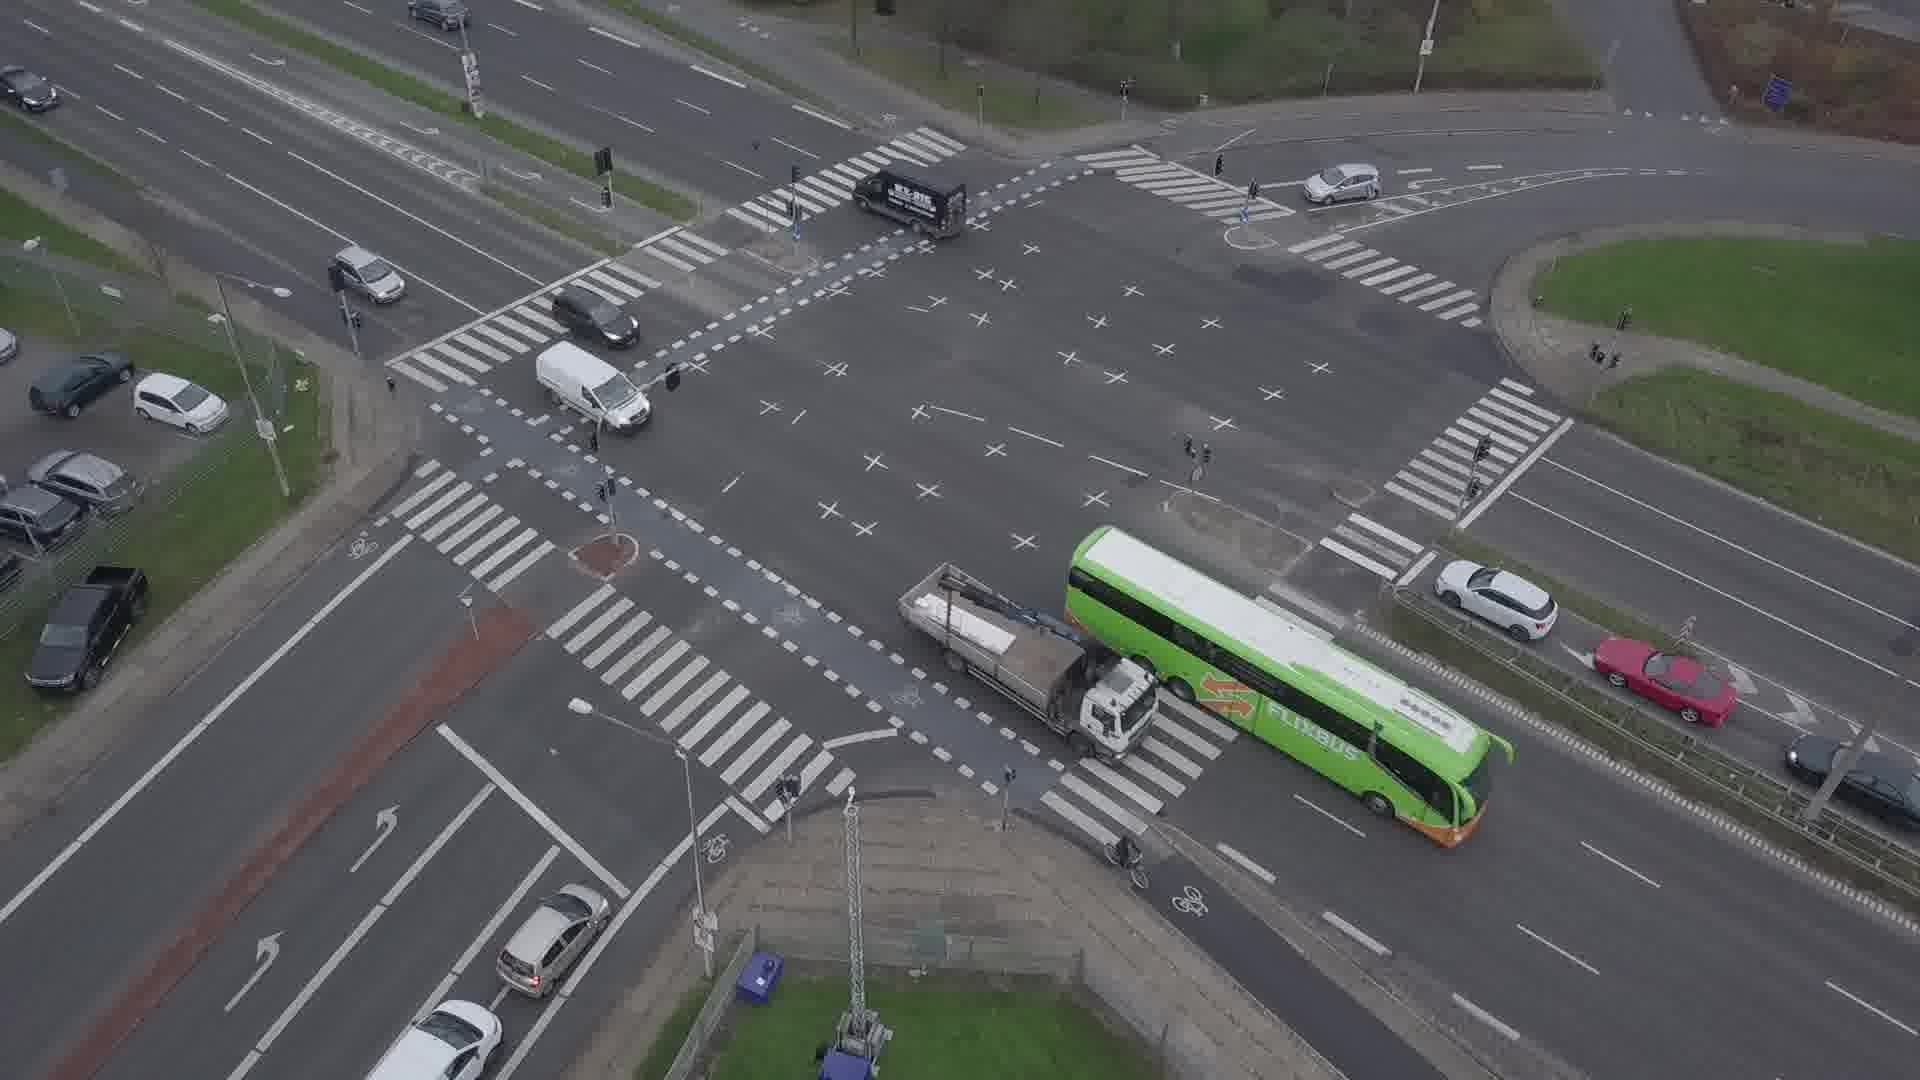bicycle: (1103, 834, 1150, 889)
bus: (1062, 526, 1513, 848)
car: (495, 883, 612, 1002), (1593, 635, 1737, 725), (1786, 732, 1920, 824), (362, 999, 502, 1080), (1436, 559, 1559, 640), (552, 284, 641, 347), (331, 245, 404, 307), (1300, 162, 1383, 206), (0, 64, 58, 114), (407, 0, 473, 33)
lorry: (900, 562, 1158, 765), (535, 340, 652, 431), (848, 158, 968, 239)
